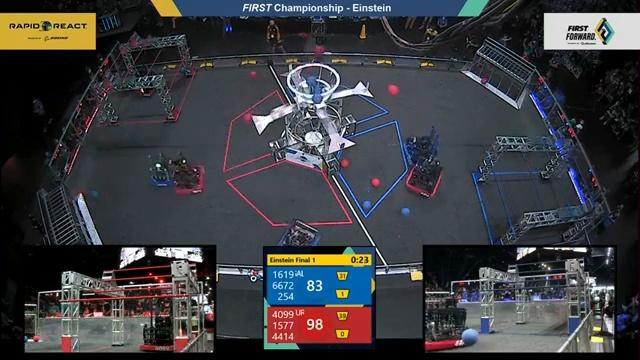robot: (391, 124, 453, 166), (263, 214, 328, 252), (401, 154, 452, 201), (426, 292, 468, 349), (171, 150, 210, 197), (127, 56, 163, 101), (140, 306, 174, 353), (133, 151, 172, 191)
